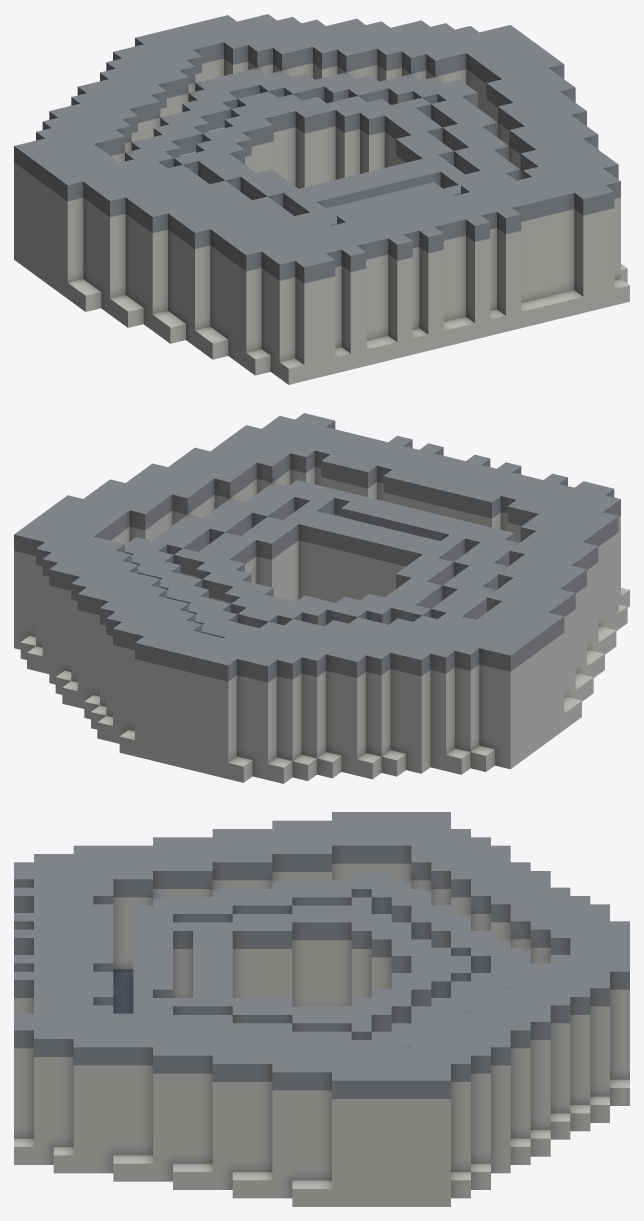
Rendered from w_pentagon.glb.
The picture shows the model from 3 angles, top to bottom: view 1: azimuth 30°, elevation 25°; view 2: azimuth 150°, elevation 25°; view 3: azimuth 270°, elevation 25°; orthographic projection. The views are drawn at different scales.
Parts seen in each view (by area): view 1: w_pentagon_body; view 2: w_pentagon_body; view 3: w_pentagon_body.
Boxes of the visible parts, bbox=[...] form: w_pentagon_body: bbox=[14, 14, 629, 384]; w_pentagon_body: bbox=[14, 413, 629, 783]; w_pentagon_body: bbox=[14, 812, 629, 1206].
Bounding box in the file's own units: 2 × 0.4375 × 1.94.
Materials: 1 (1 with a texture image).
